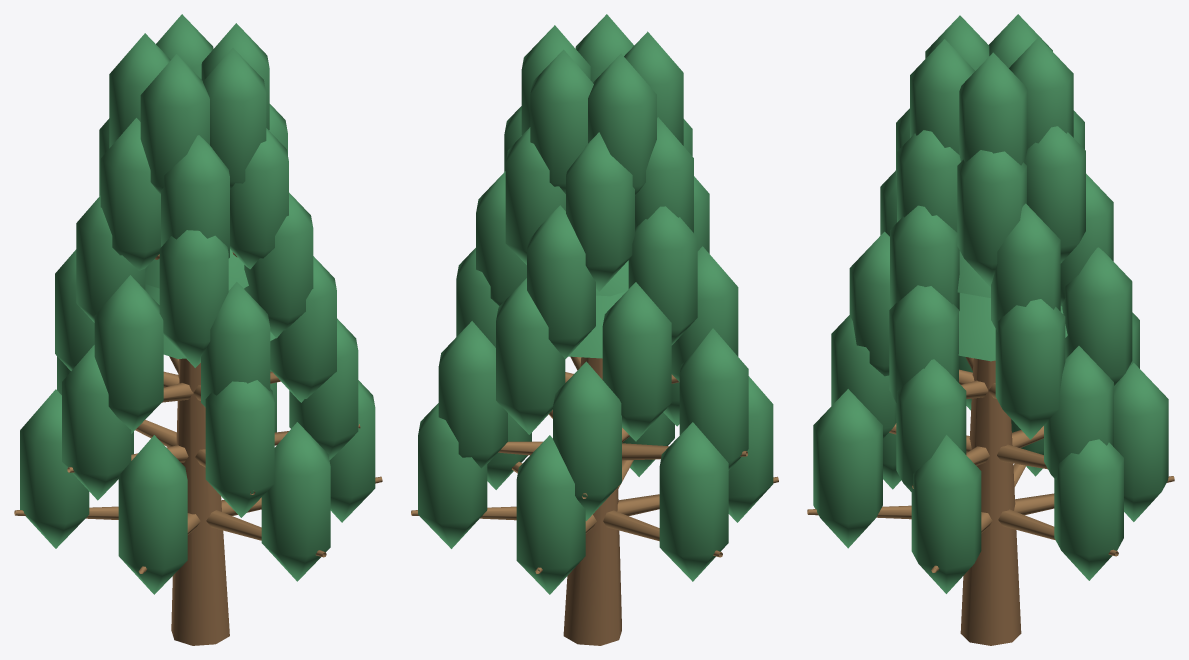
The model's file is tree_conifer_01.glb.
3 renders of one model, left to right at view 1: azimuth 30°, elevation 25°; view 2: azimuth 150°, elevation 25°; view 3: azimuth 270°, elevation 25°, orthographic.
Bounding box in the file's own units: 0.6506 × 1.2 × 0.6667.
